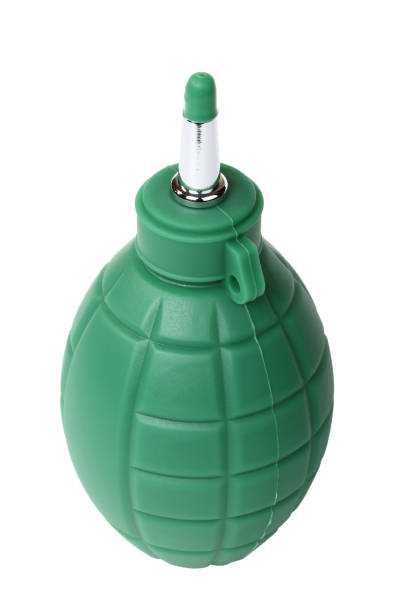e1: (52, 70, 338, 570)
